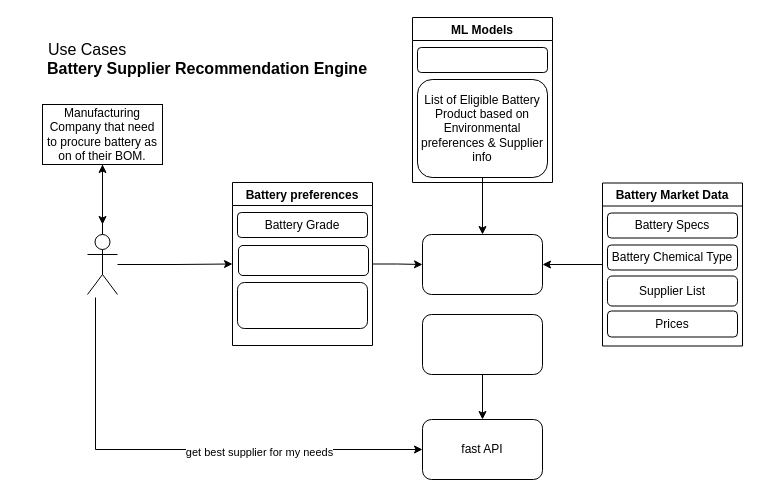
The diagram is 760 pixels wide and 497 high, and some of its shapes have lost their labels. Here are the shapes that lost their labels. From the top down, the centre of each, then its label:
the point at 482,59: Classify Battery Grade
the point at 102,264: Buyer / head of Supply Chain operation
the point at 303,260: Operational Environment
the point at 482,264: Azure ML (Training)
the point at 302,305: Prefferred Supplier (related with company cooperation)
the point at 482,344: Pickled Python Objects (.pkl)
